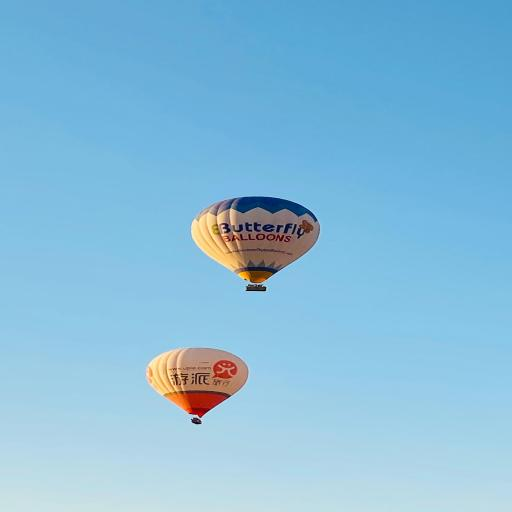hot air ballon: (190, 196, 320, 291), (145, 347, 249, 425)
